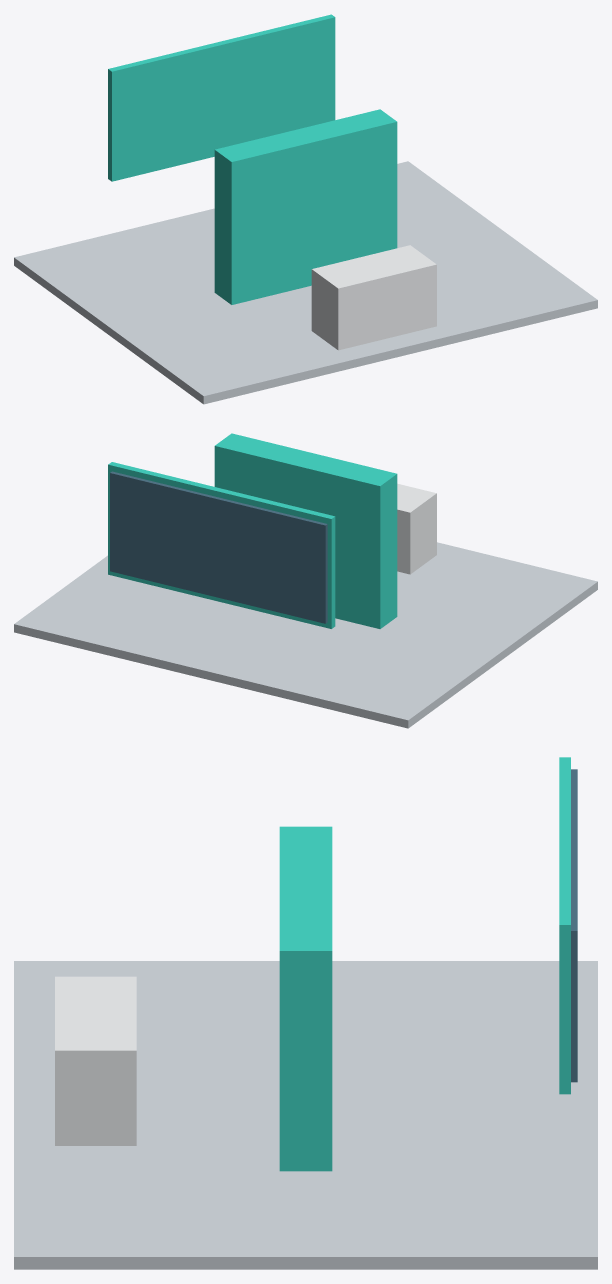
3 renders of one model, top to bottom at view 1: azimuth 30°, elevation 25°; view 2: azimuth 150°, elevation 25°; view 3: azimuth 270°, elevation 25°, orthographic. The views are drawn at different scales.
Visible parts, largest first — view 1: Exhibition Booth Concept; view 2: Exhibition Booth Concept; view 3: Exhibition Booth Concept.
Part boxes in pixels (x1,y1,x2,y2): Exhibition Booth Concept: (14, 14, 597, 404); Exhibition Booth Concept: (14, 433, 597, 728); Exhibition Booth Concept: (14, 757, 597, 1269).
Bounding box in the file's own units: 6 × 2.65 × 5.
